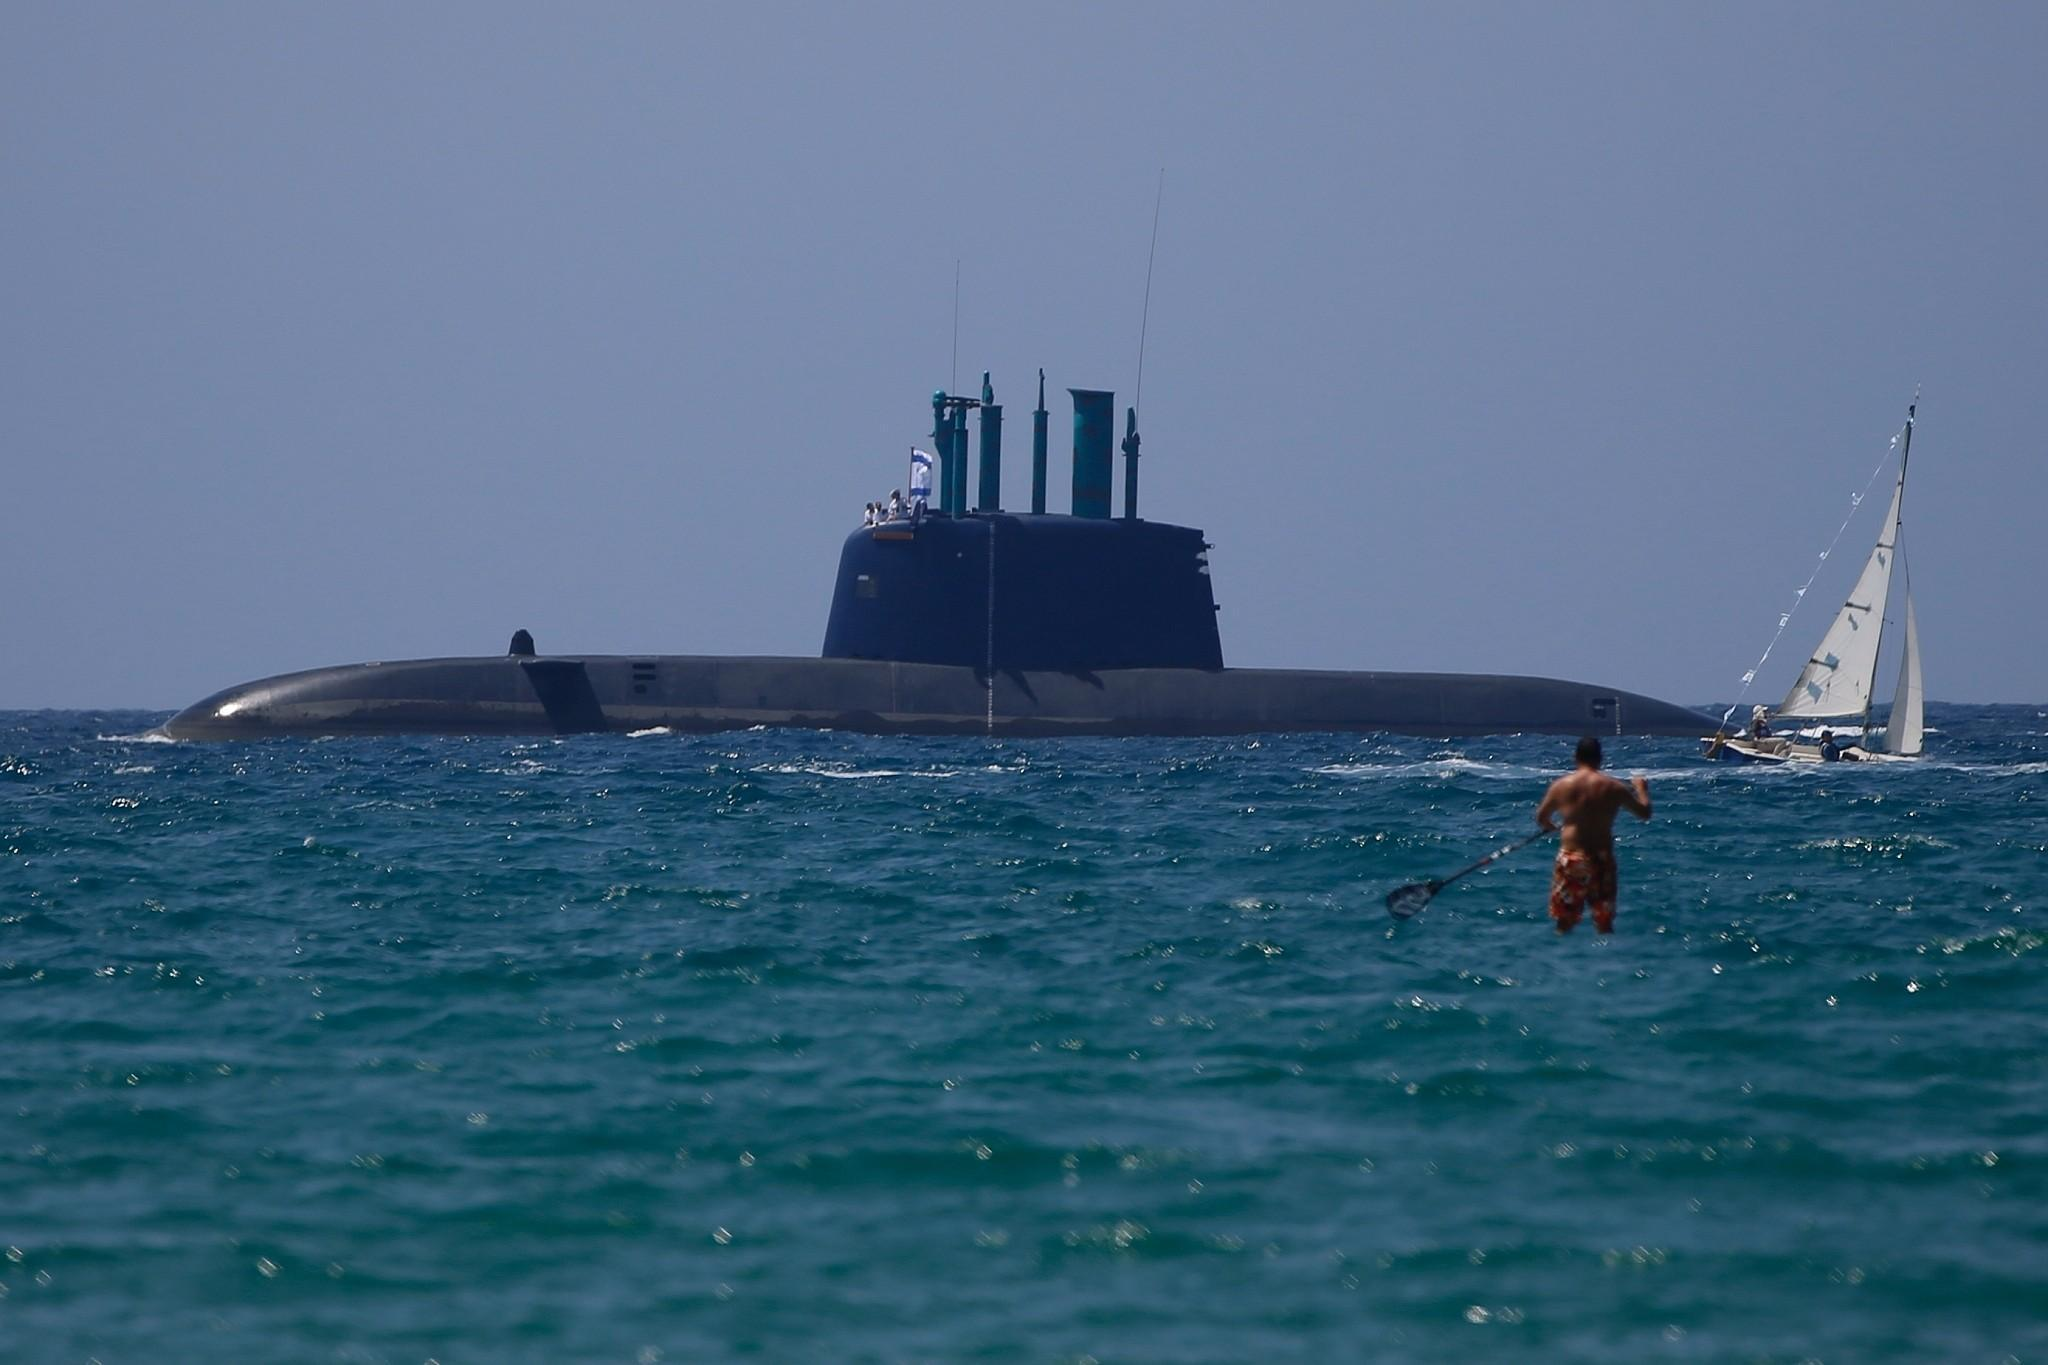Submarine: (113, 334, 1520, 807)
